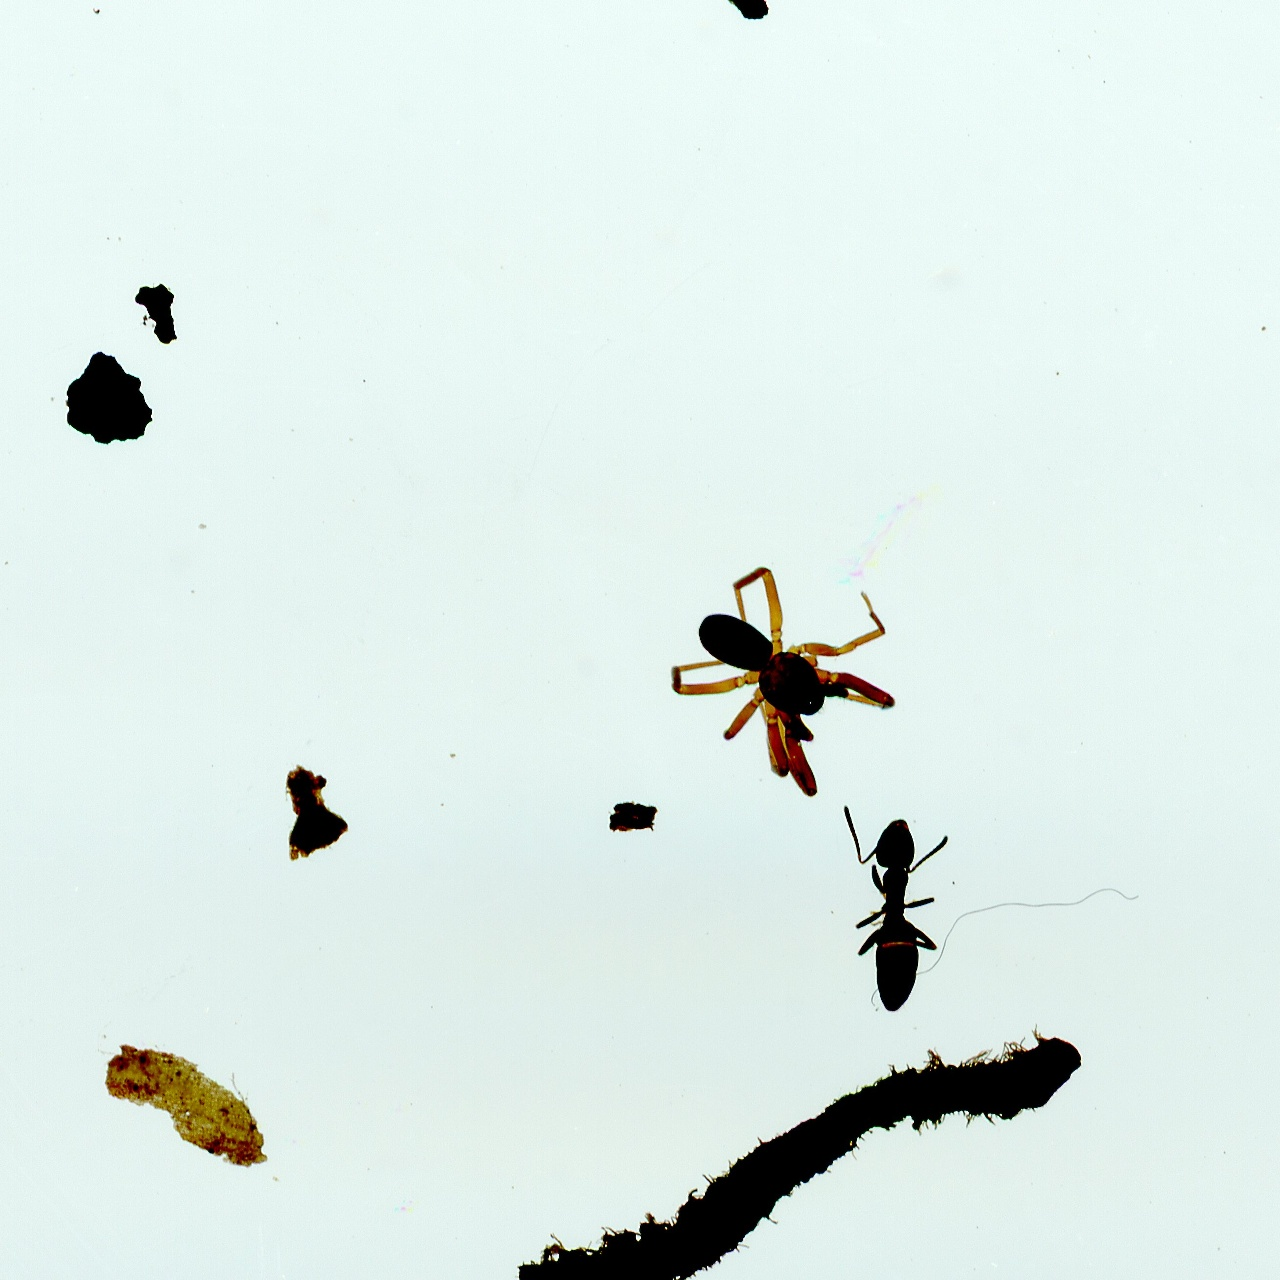arthropod: (669, 549, 899, 801), (836, 803, 952, 1019), (956, 1255, 1211, 1280)
